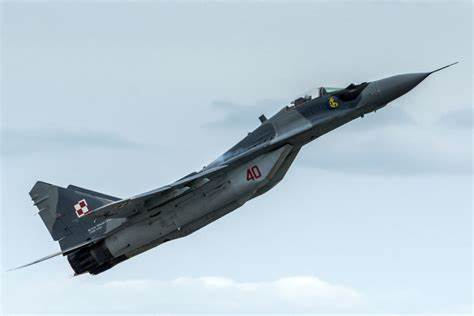Aeronef_militaire: (3, 53, 463, 285)
